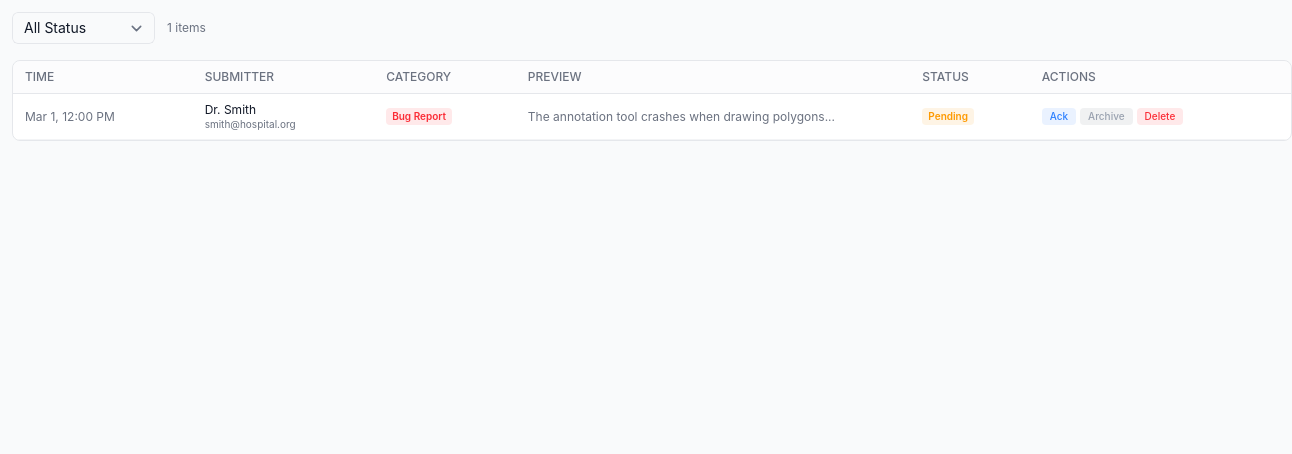
Test: Admin Feedback Page › expand and detail › shows full body and context when row is expanded
Note: Click the row to expand
What coordinates should you click on to do the following:
click the row that starts with "Mar 1, 12:00 PM"
I would click on:
 (652, 117)
Its box is [13,94,1291,140].
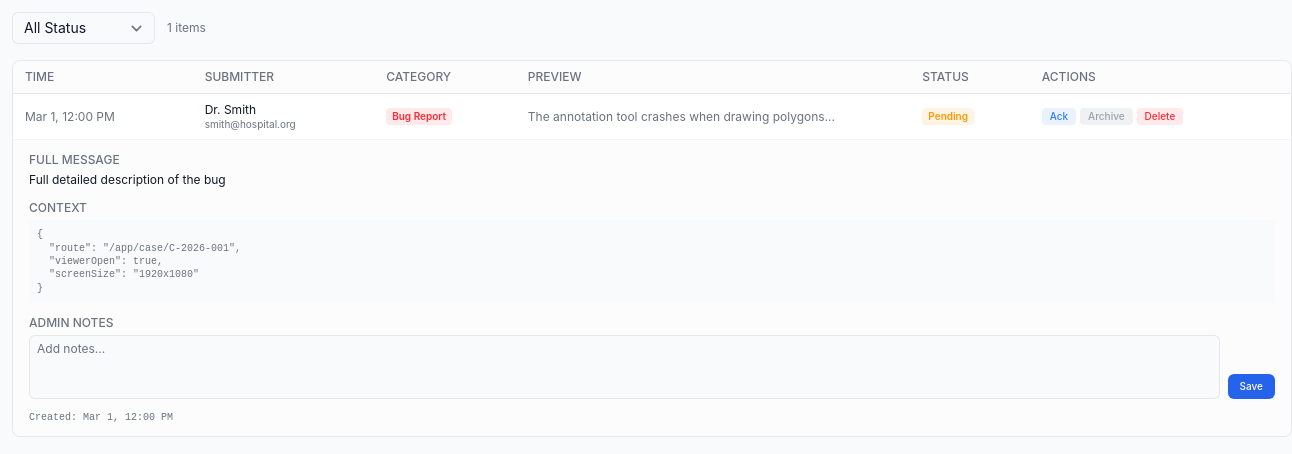
Expected: the text "Full detailed description of the bug" is shown, [29,172,226,187]
